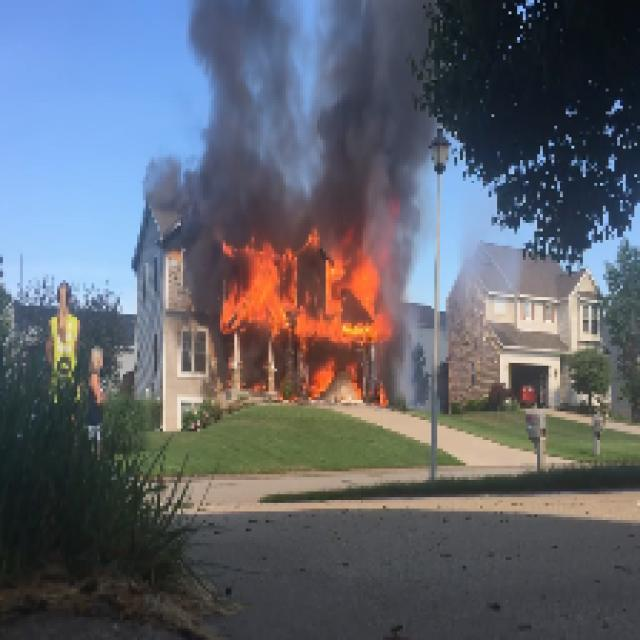Fire: (214, 245, 380, 338)
Smoke: (160, 3, 309, 214), (314, 3, 426, 194), (391, 200, 426, 394)
